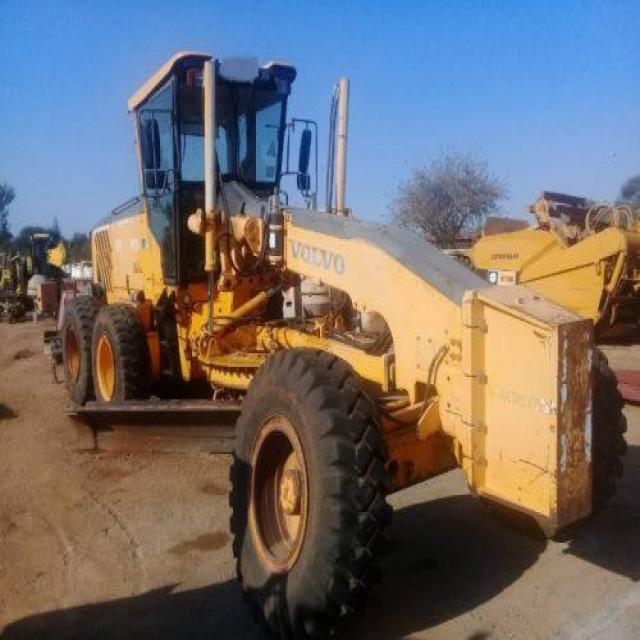Grader: (33, 38, 632, 633)
